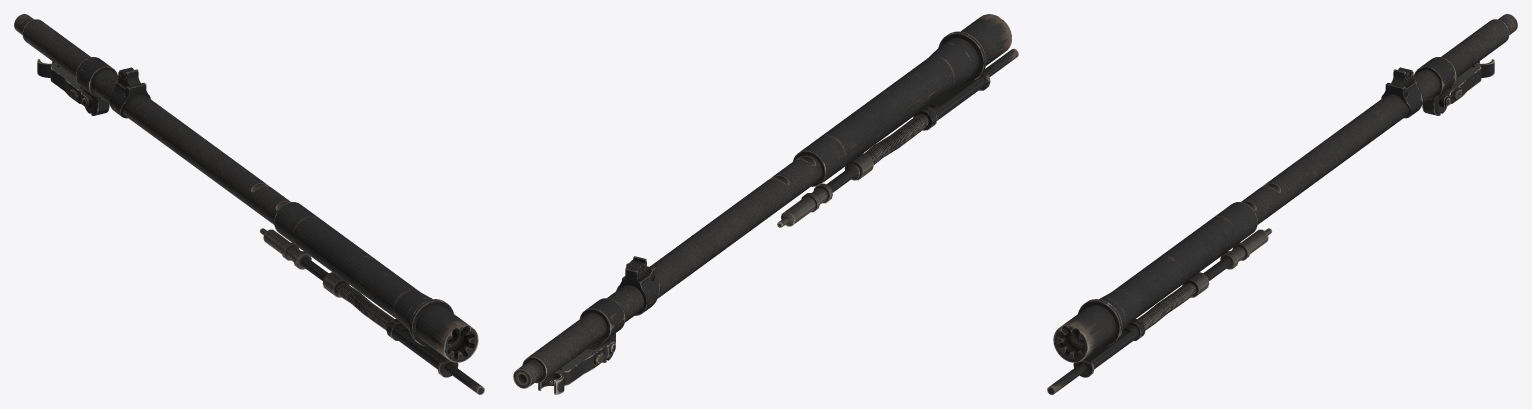
3 views of the same model, side by side, from view 1: azimuth 30°, elevation 25°; view 2: azimuth 150°, elevation 25°; view 3: azimuth 330°, elevation 25° (orthographic). The views are drawn at different scales.
Parts seen in each view (by area): view 1: TW_5bb20dadd4351e00367faeff_folded_PZ_Import; view 2: TW_5bb20dadd4351e00367faeff_folded_PZ_Import; view 3: TW_5bb20dadd4351e00367faeff_folded_PZ_Import.
Part boxes in pixels (x1,y1,x2,y2): TW_5bb20dadd4351e00367faeff_folded_PZ_Import: [14, 14, 484, 394]; TW_5bb20dadd4351e00367faeff_folded_PZ_Import: [513, 14, 1018, 394]; TW_5bb20dadd4351e00367faeff_folded_PZ_Import: [1047, 14, 1517, 394].
Size of the model in its own units: 0.017 by 0.315 by 0.0284.
Materials: 1 (1 with a texture image).
